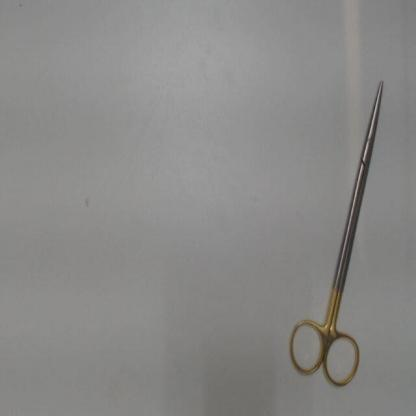7 Metzenbaum Scissors: (286, 72, 388, 395)
